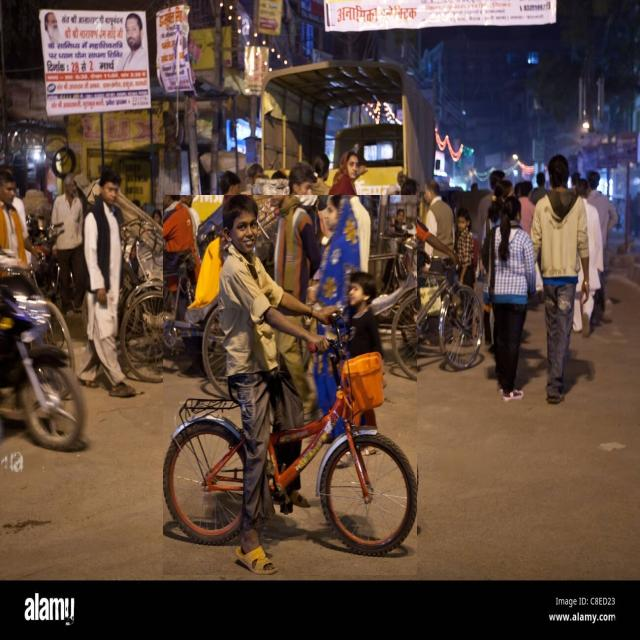bicycle: (164, 195, 417, 575), (352, 206, 482, 396)
